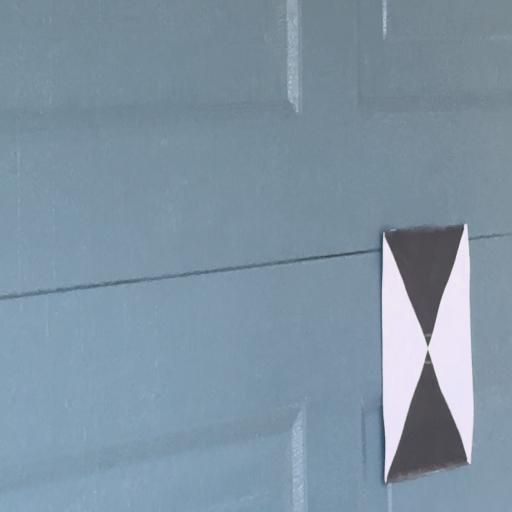target: (382, 225, 472, 482)
